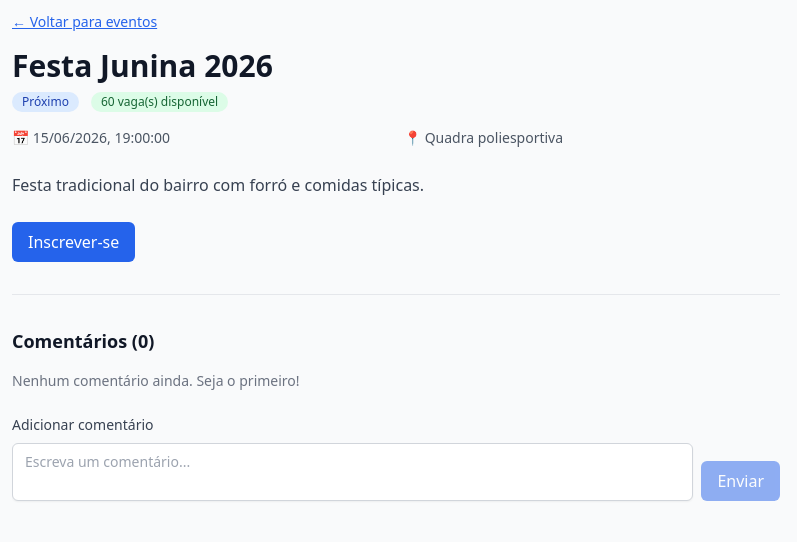
Test case: EventDetailPage — usuário autenticado › exibe status "Na fila de espera" após inscrição waitlisted
Click the button "Inscrever-se" at {"x": 74, "y": 242}, box [12,222,135,262]
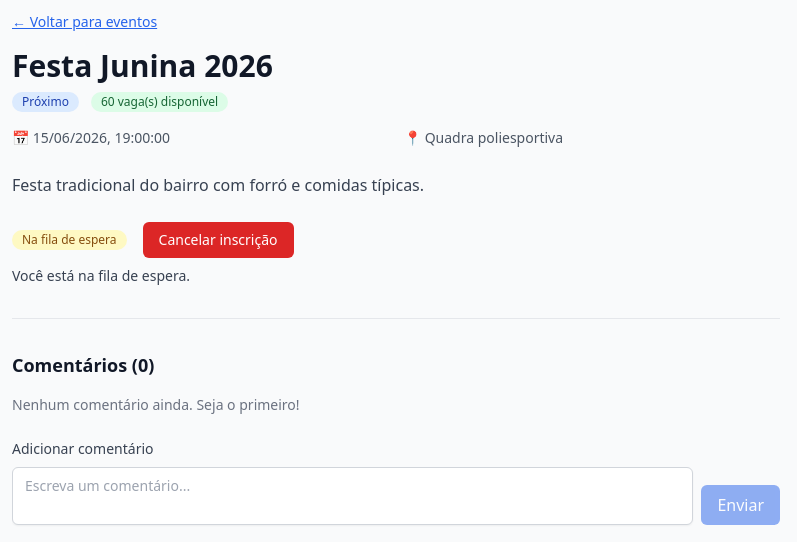
Now the text "Você está na fila de espera." is shown, box [12,266,190,285]
